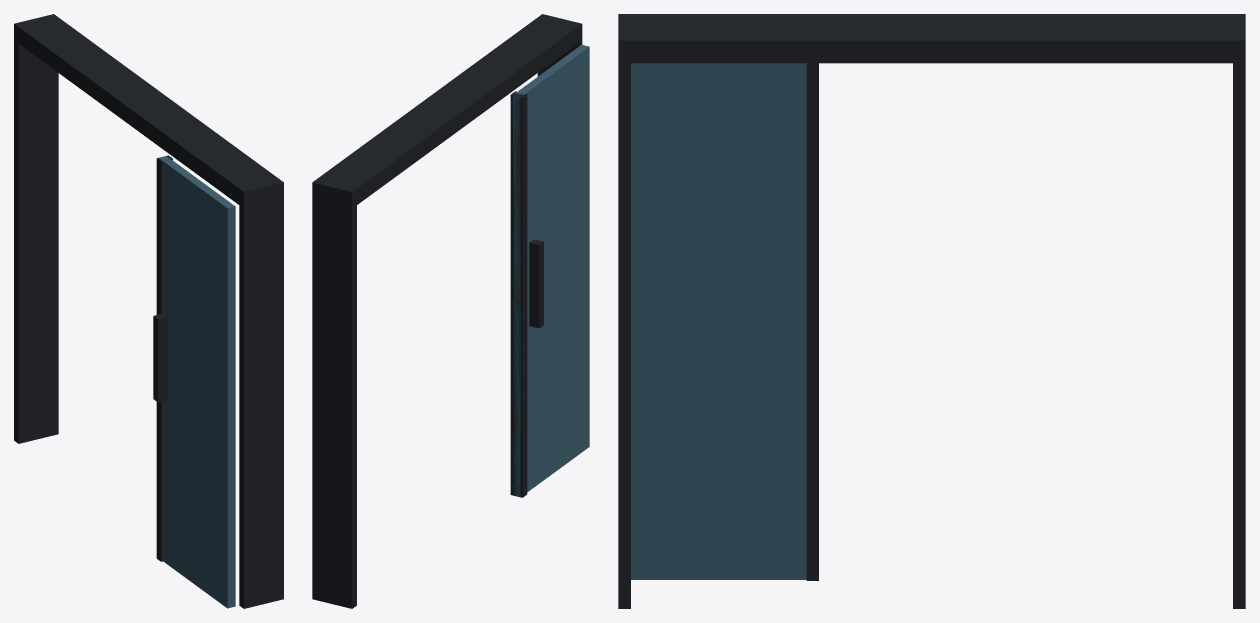
Rendered from modern-slider.glb.
3 views of the same model, side by side, from view 1: azimuth 30°, elevation 25°; view 2: azimuth 150°, elevation 25°; view 3: azimuth 270°, elevation 25° (orthographic). The views are drawn at different scales.
Visible parts, largest first — view 1: modern-slider; view 2: modern-slider; view 3: modern-slider.
Boxes of the visible parts, left/top/right/bottom form: modern-slider: left=14, top=14, right=283, bottom=608; modern-slider: left=312, top=14, right=589, bottom=608; modern-slider: left=618, top=14, right=1245, bottom=608.
Size of the model in its own units: 0.16 by 1 by 1.
